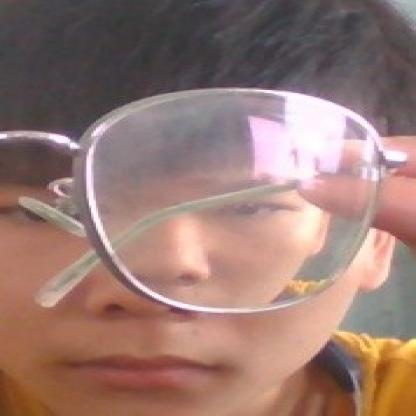not trash: (84, 88, 384, 311)
